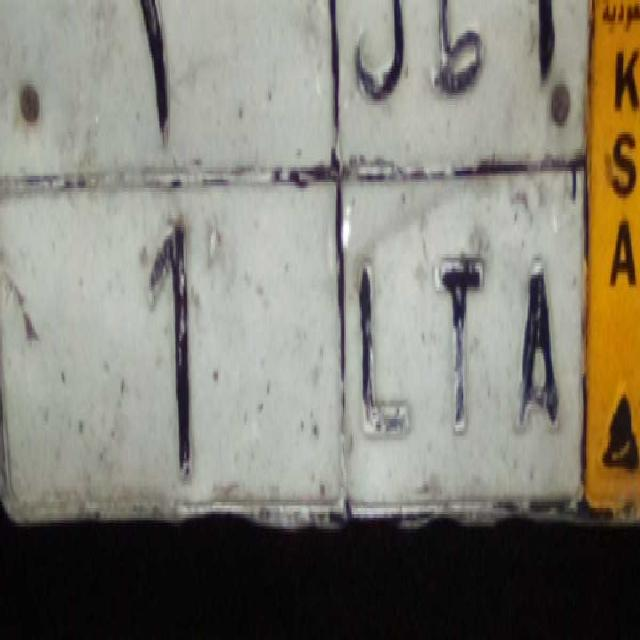license_plate: (0, 159, 587, 541)
